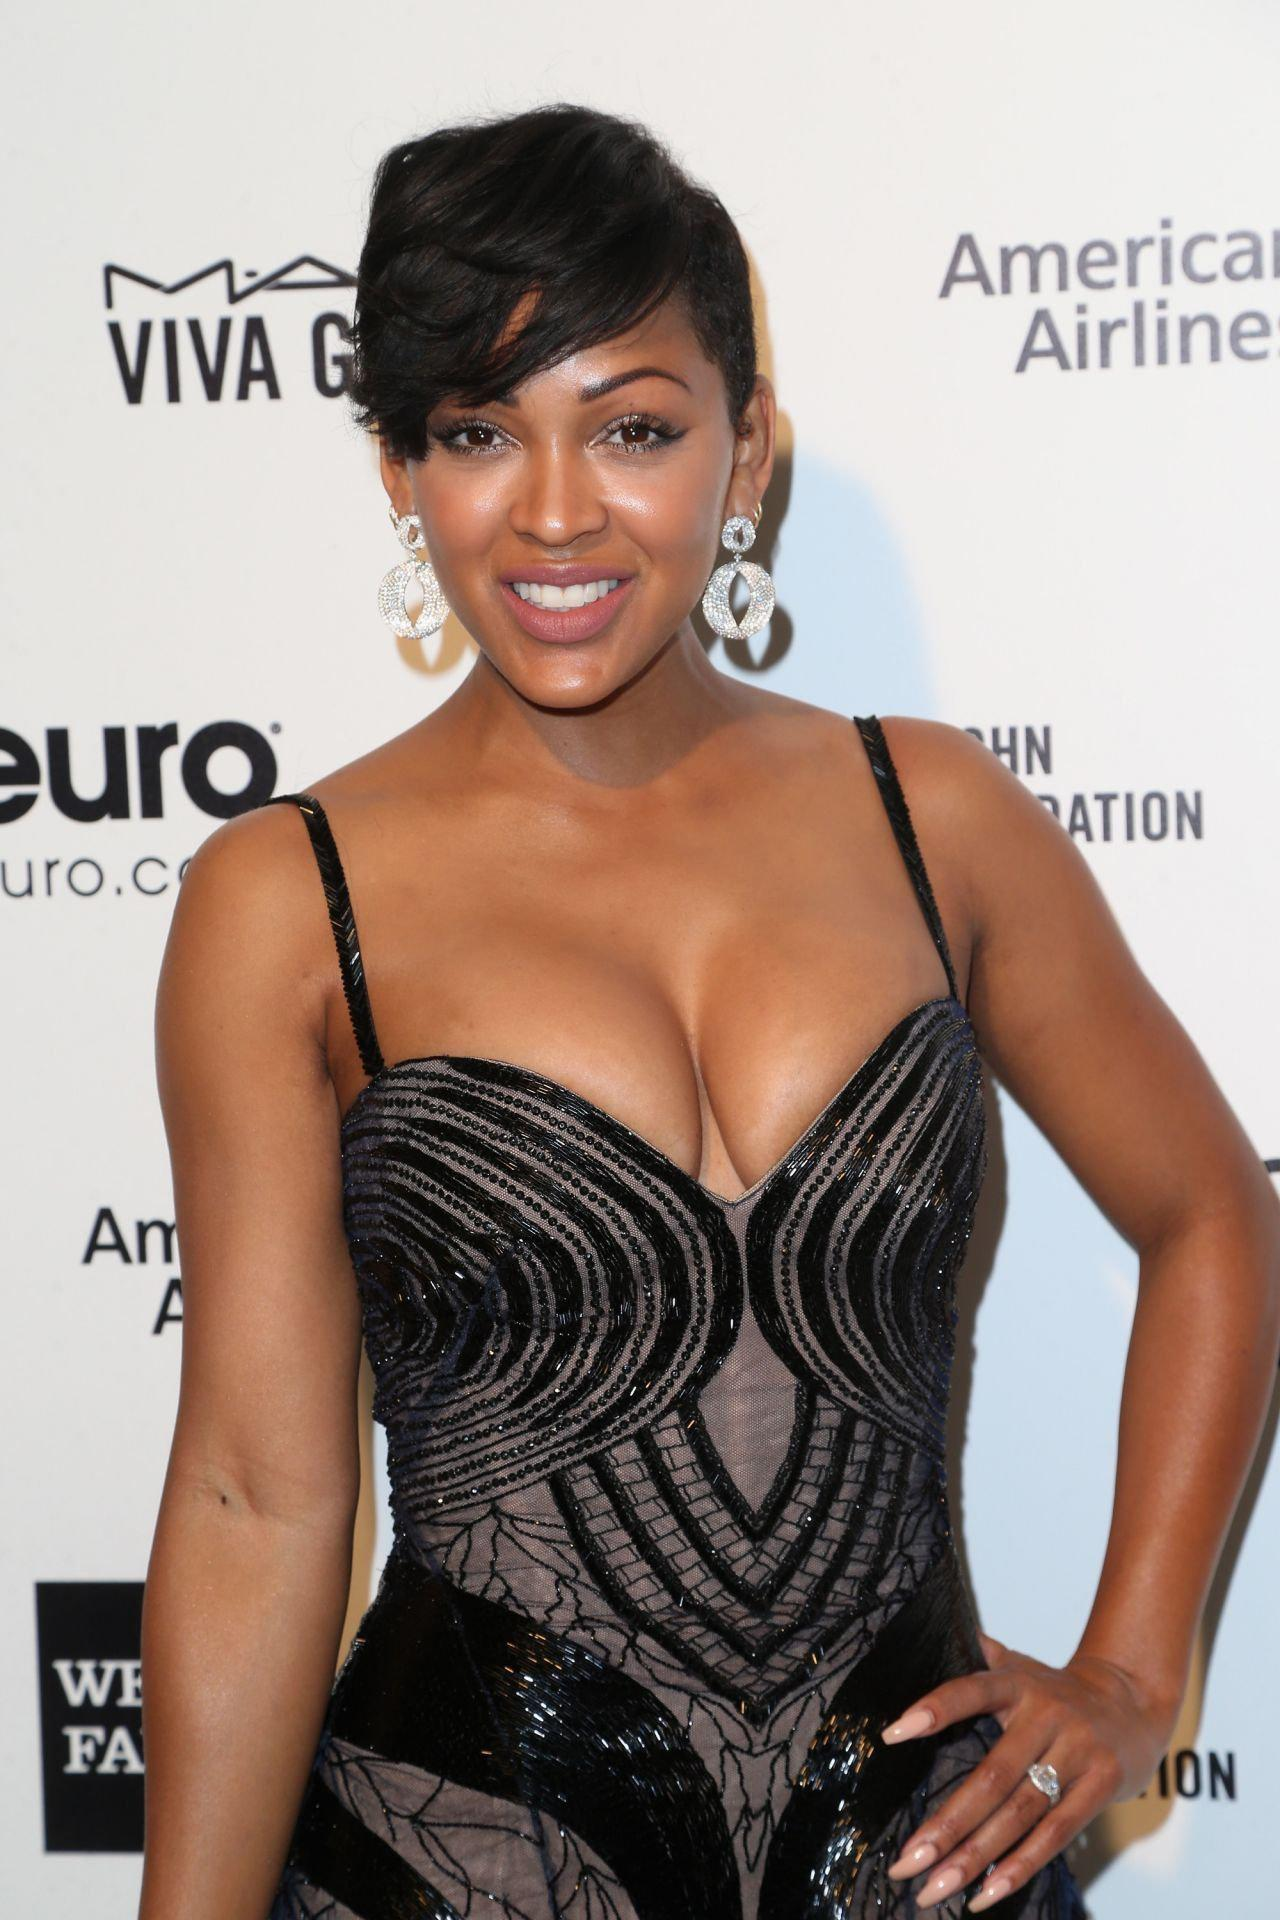Sober: (377, 316, 731, 691)
